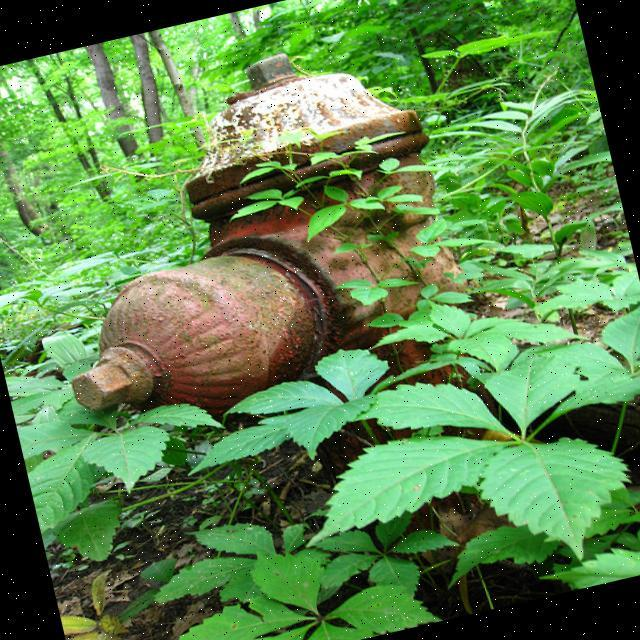fire_hydrant: (8, 21, 500, 461)
